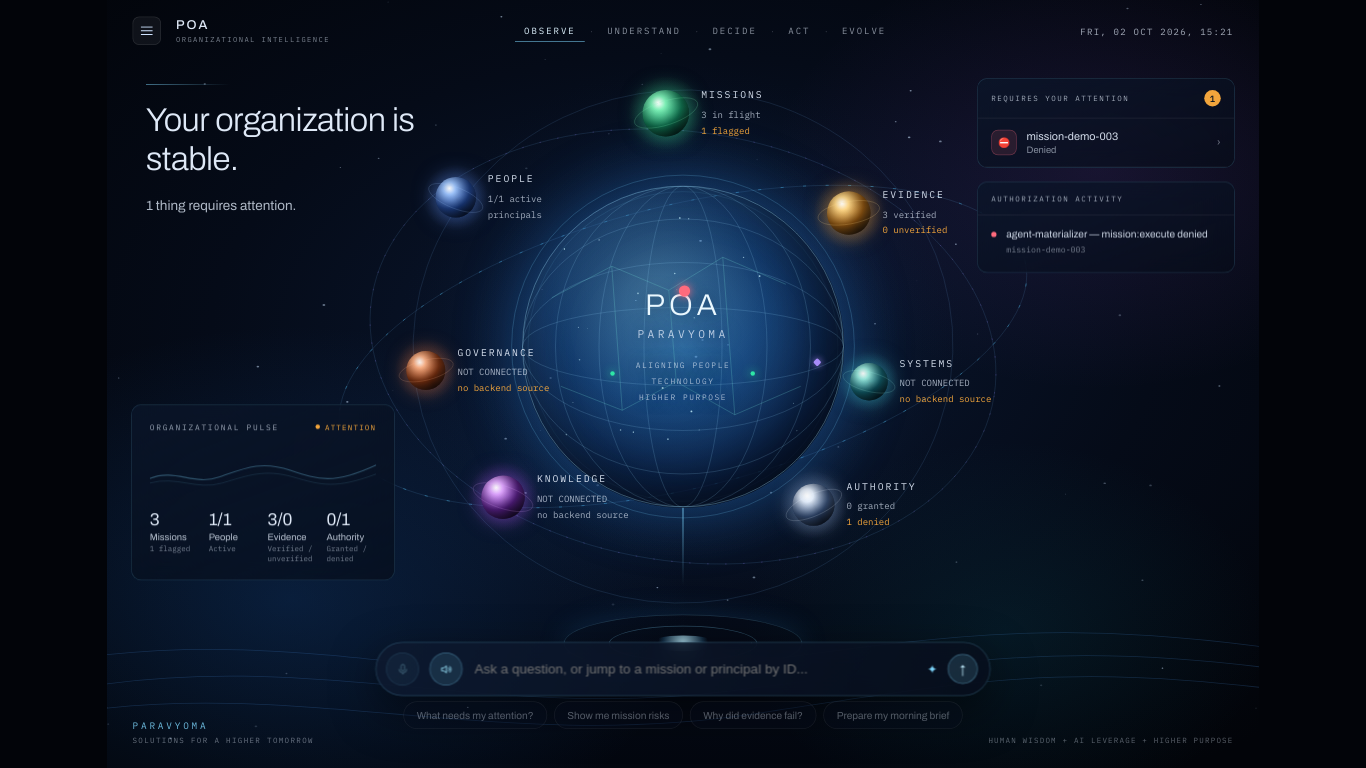
it: voice shell — supported browser › reports a browser block honestly (not-allowed) and keeps text interaction working
This screenshot has width=1366, height=768.
Expected: the text "1 thing requires attention." is shown, [146,198,296,213]
Click the button named "Speak greeting" at (446,669), box [430,652,462,686]
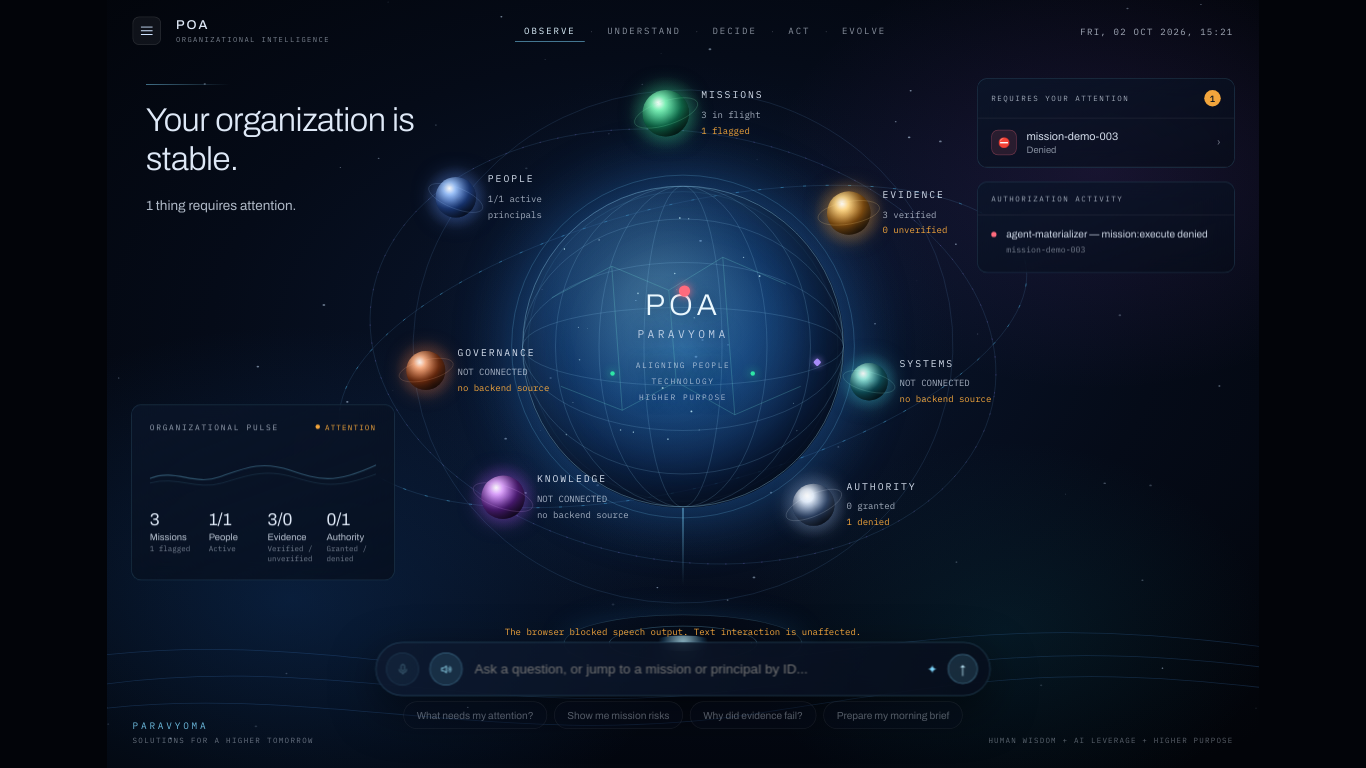
Expected: the message named "Voice status" shows "browser blocked speech output. Text interaction is unaffected.", [505,626,861,638]
Type "help" into the field with placeholder "Ask a question, or jump to a mission or principal by ID..." at (695,669), box [473,660,917,678]
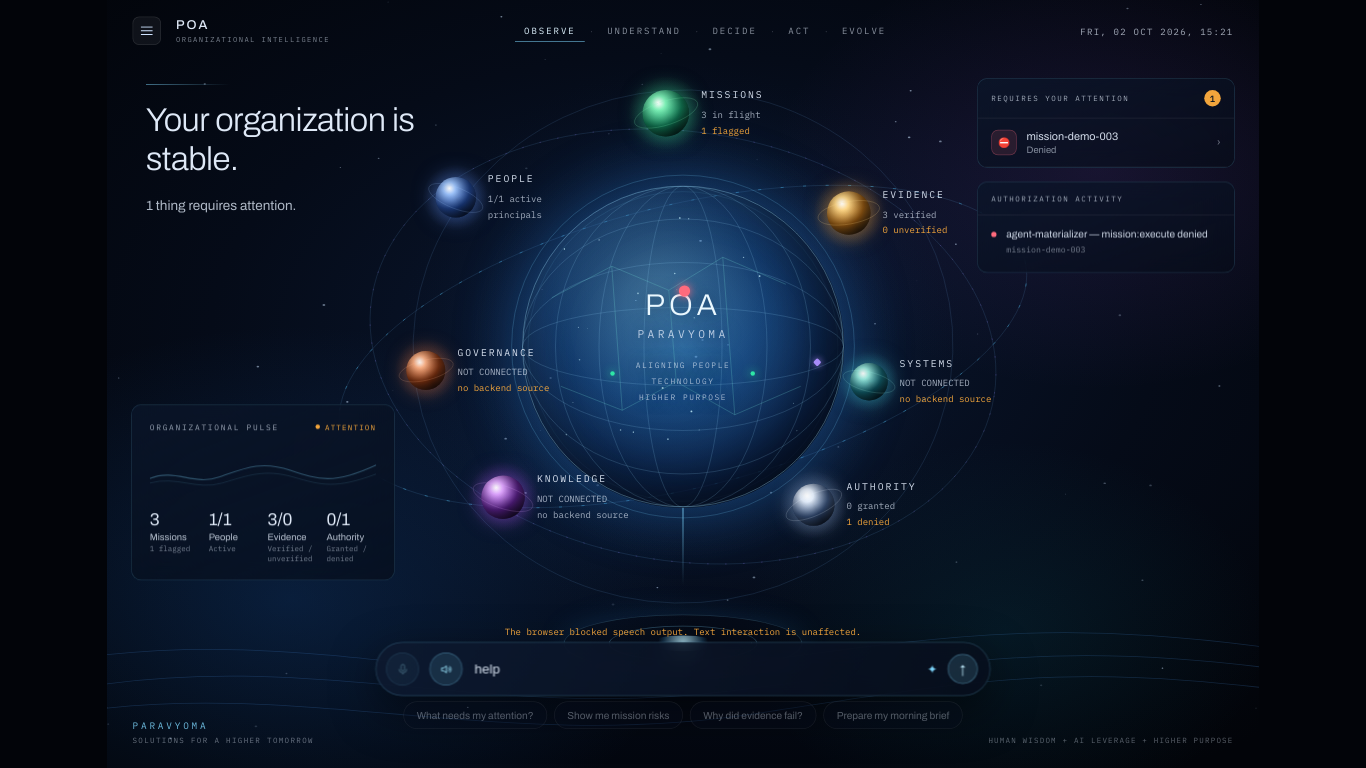
Submit the form with placeholder "Jump to a mission or principal by ID", box [376,642,990,696]
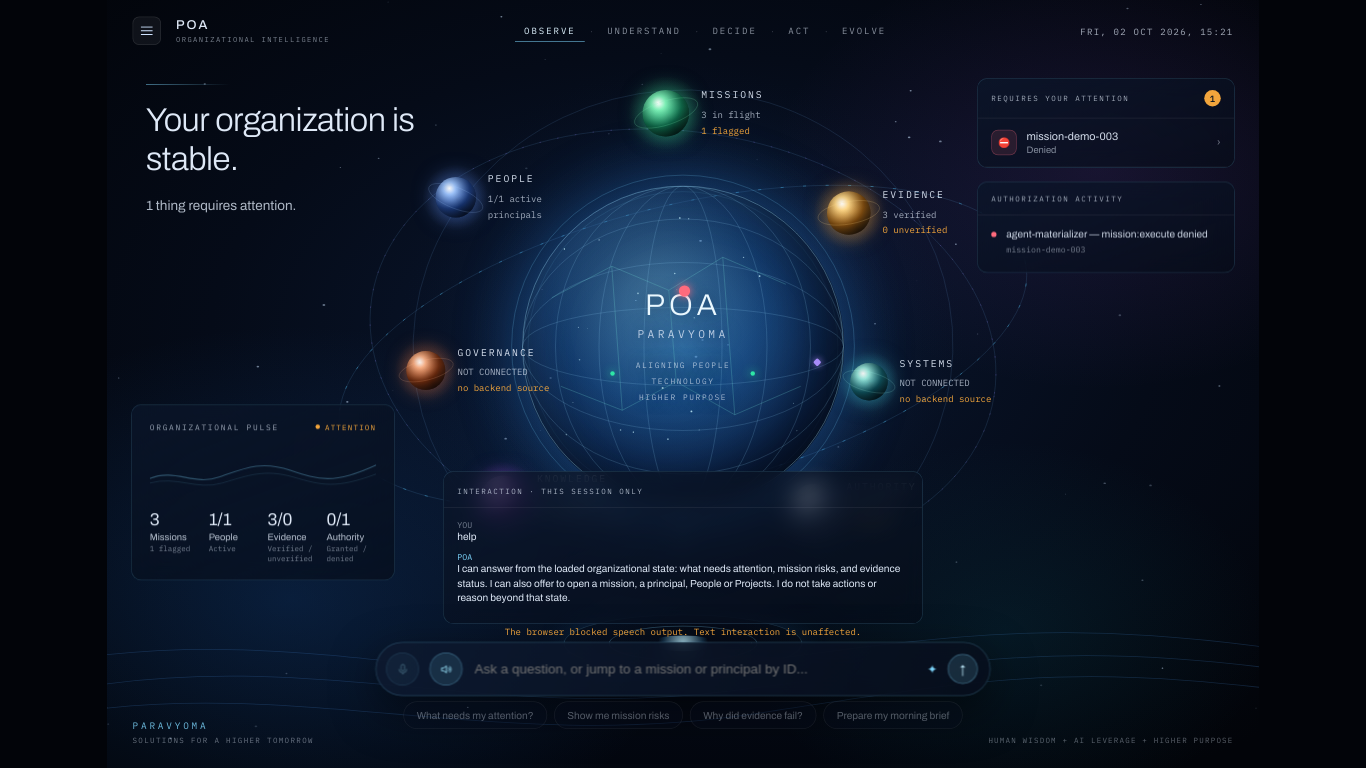
Expected: the element named "Interaction transcript" is shown, [444,508,922,623]
